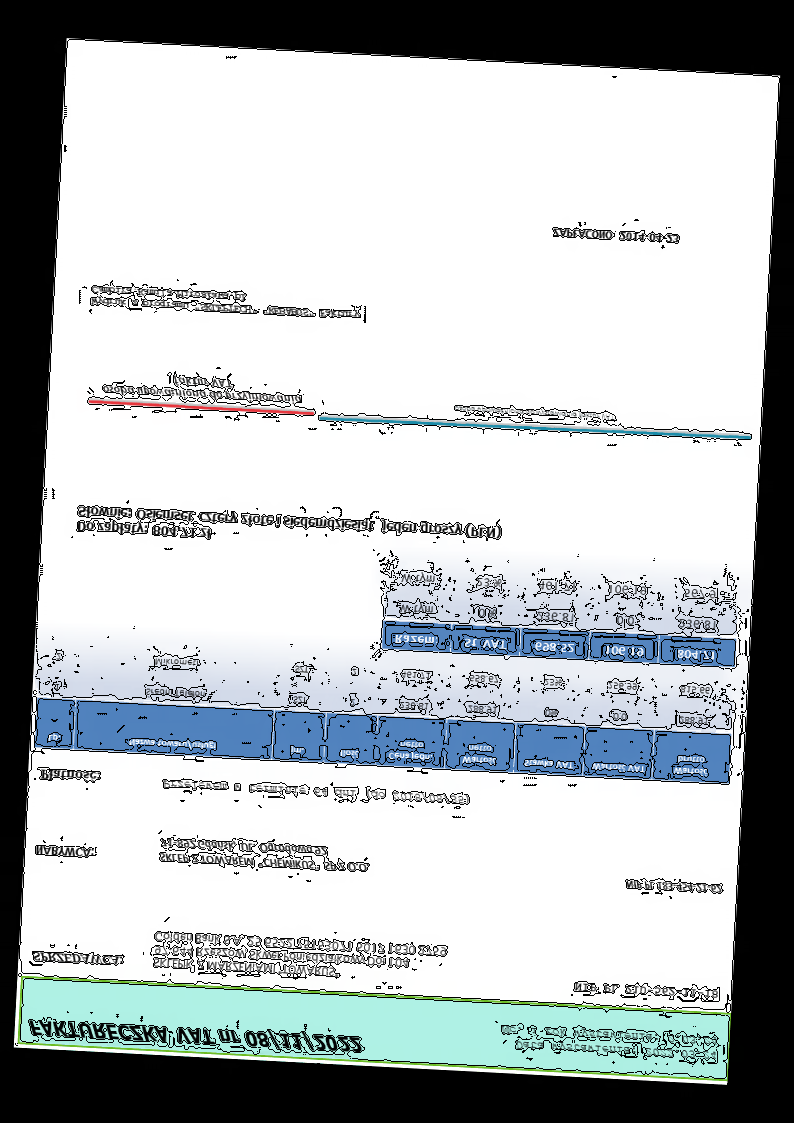Table: (33, 636, 735, 788), (380, 555, 742, 669)
TextBox: (73, 500, 504, 556), (150, 927, 449, 985), (24, 1016, 364, 1058), (88, 281, 362, 324), (497, 1022, 720, 1064), (160, 778, 470, 807), (157, 835, 369, 875), (99, 369, 305, 407), (451, 402, 619, 423), (571, 979, 720, 1002), (550, 226, 682, 246), (29, 949, 124, 969), (622, 878, 723, 896), (32, 843, 95, 862), (38, 767, 101, 786)
